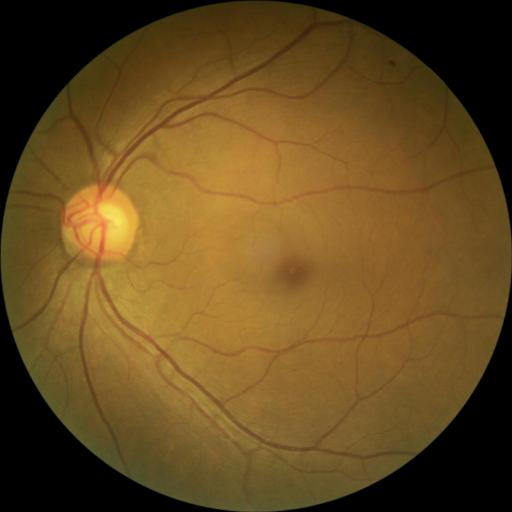Optic Cup: (76, 204, 127, 253)
Optic Disc: (60, 183, 139, 264)
